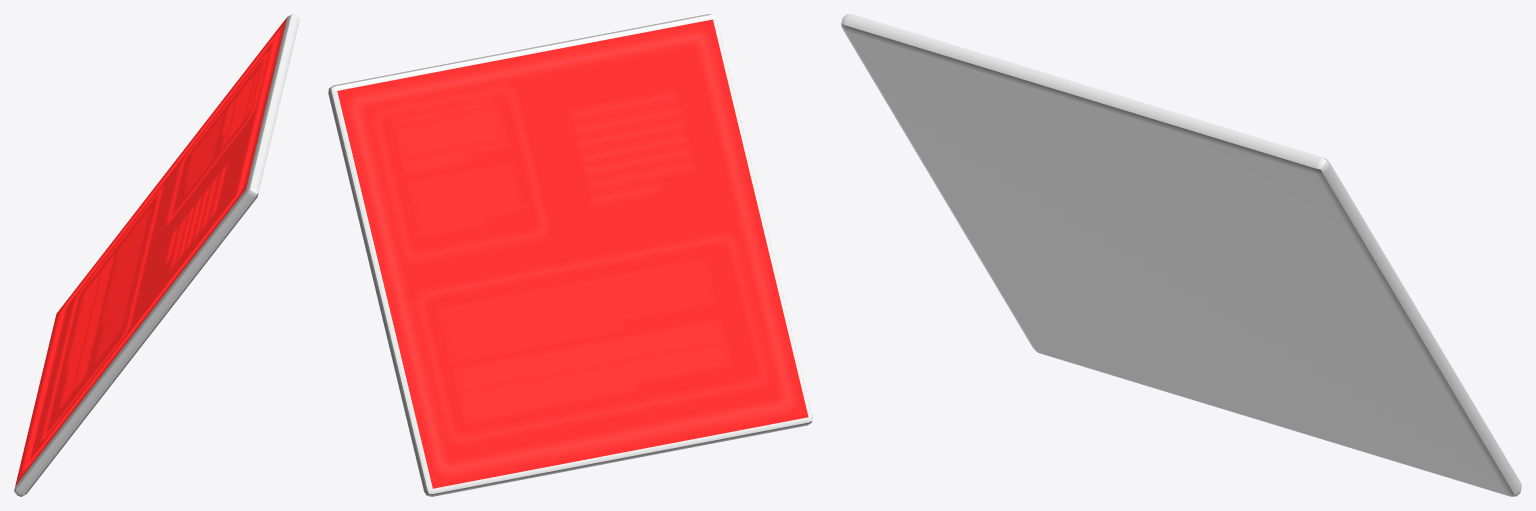
The model's file is BridgeSingleScreen_01.fbx.
The picture shows the model from 3 angles, left to right: view 1: azimuth 30°, elevation 25°; view 2: azimuth 150°, elevation 25°; view 3: azimuth 270°, elevation 25°; orthographic projection. The views are drawn at different scales.
Parts seen in each view (by area): view 1: Bridge_SingleScreen_01; view 2: Bridge_SingleScreen_01; view 3: Bridge_SingleScreen_01.
Boxes of the visible parts, x1,y1,x2,y2 form: Bridge_SingleScreen_01: [14, 14, 299, 496]; Bridge_SingleScreen_01: [328, 14, 812, 496]; Bridge_SingleScreen_01: [841, 14, 1521, 496].
Bounding box in the file's own units: 316 × 252 × 344.
